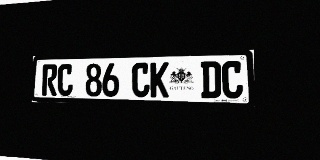6: (102, 63, 119, 97)
8: (85, 63, 102, 96)
C: (222, 61, 243, 99), (132, 62, 150, 97), (57, 64, 73, 96)
D: (201, 61, 221, 98)
K: (150, 62, 169, 97)
R: (42, 64, 57, 96)
